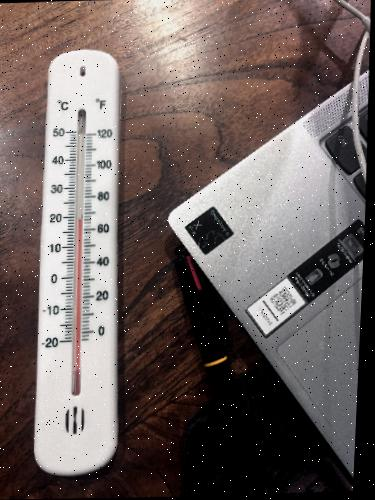thermo: (32, 55, 132, 477)
